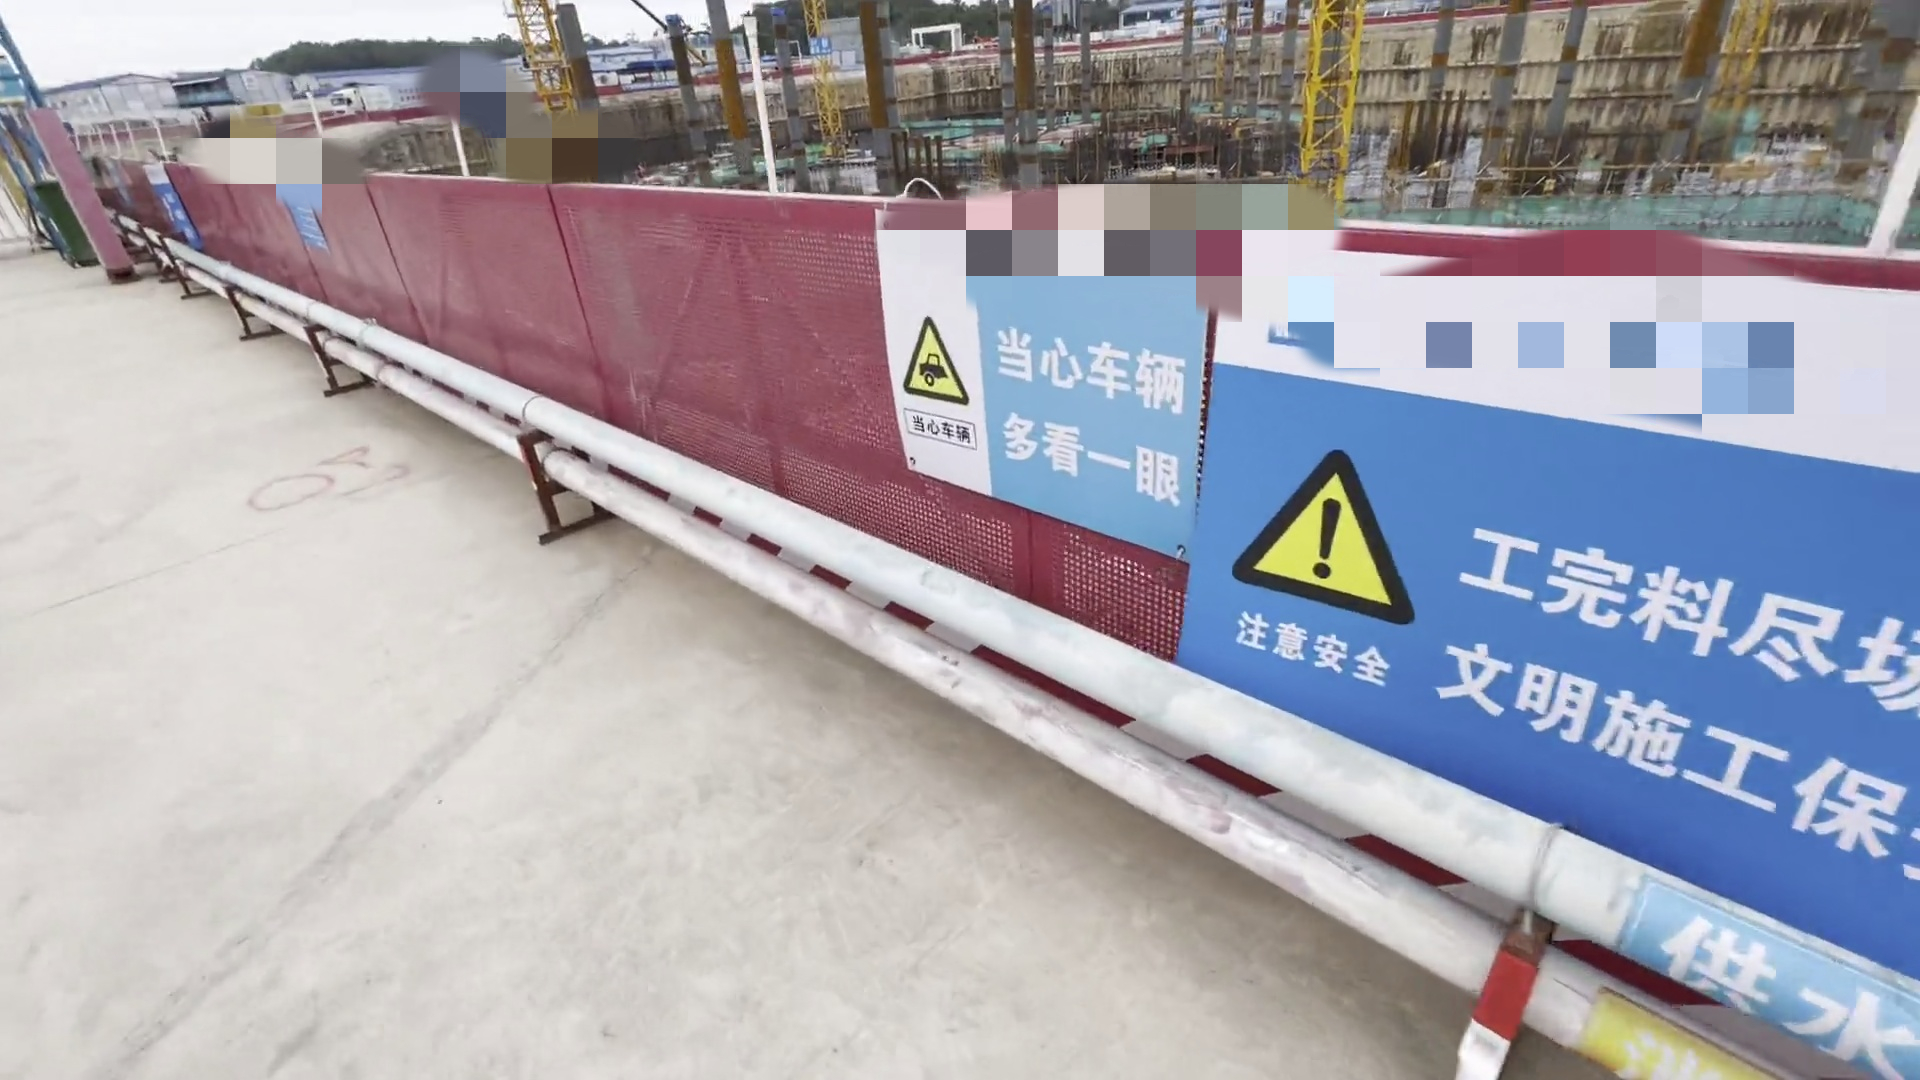fence: (167, 109, 1178, 663)
slogan: (1216, 264, 1920, 884), (890, 223, 1189, 521), (133, 161, 200, 253), (274, 185, 345, 258)
